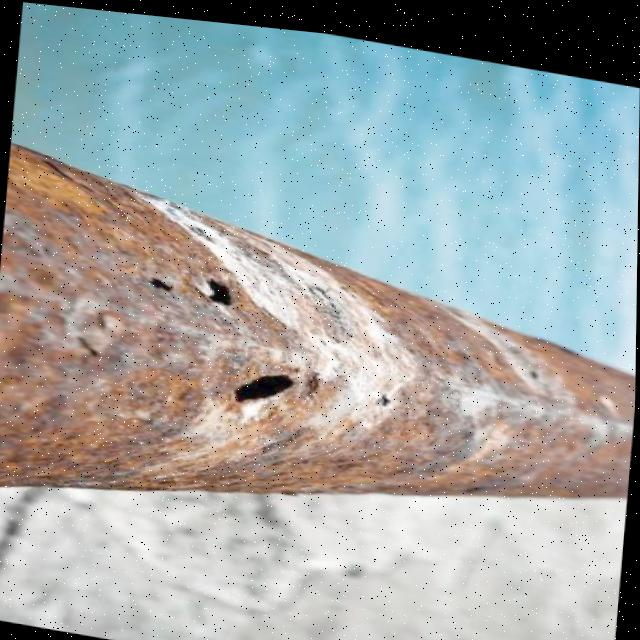hole: (218, 354, 308, 413), (192, 267, 268, 311), (132, 262, 182, 294), (513, 351, 559, 375), (373, 381, 406, 402)
